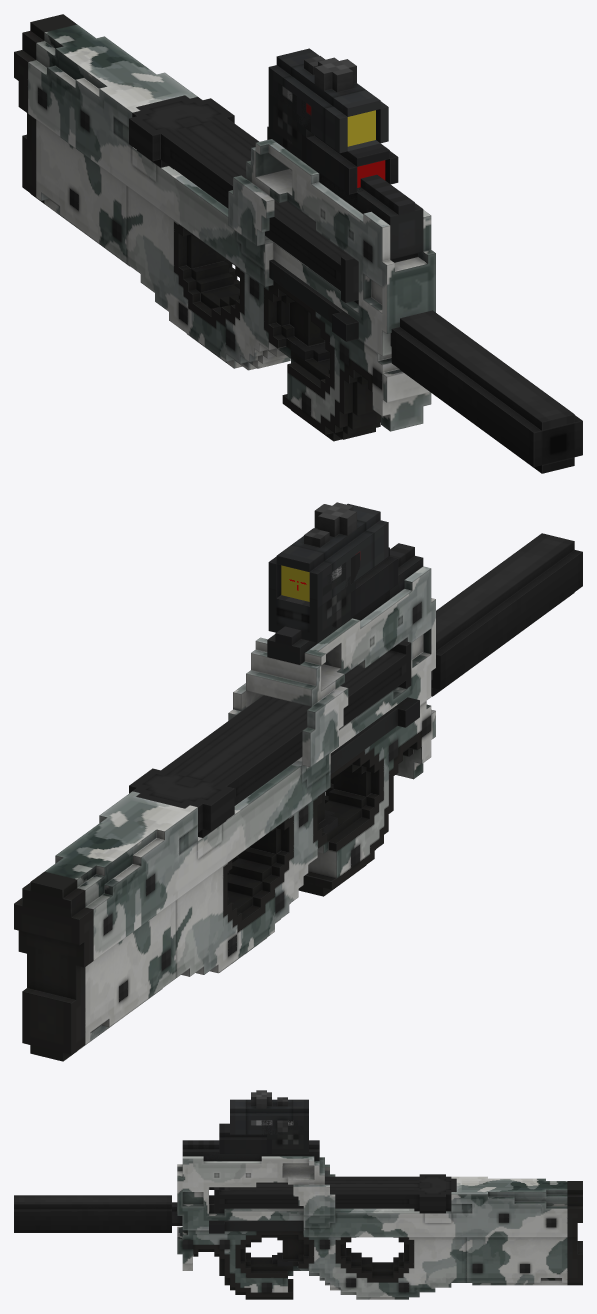
File: RD_P90_SNOW.glb
3 renders of one model, top to bottom at view 1: azimuth 30°, elevation 25°; view 2: azimuth 150°, elevation 25°; view 3: azimuth 270°, elevation 25°, orthographic. The views are drawn at different scales.
Visible parts, largest first — view 1: P90, SILENCER_6X6, P90_CLIP, SCOPE_TASCO, P90_PLANK, P90_SCOPE_DEFAULT, P90_BOLT, SCOPE_EOTECH; view 2: P90, P90_CLIP, SILENCER_6X6, SCOPE_TASCO, P90_PLANK (×2), SCOPE_EOTECH, P90_BOLT, P90_SCOPE_DEFAULT; view 3: P90, P90_CLIP, SILENCER_6X6, SCOPE_TASCO, P90_PLANK (×2), P90_SCOPE_DEFAULT, P90_BOLT, SCOPE_EOTECH.
Boxes of the visible parts, x1,y1,x2,y2 form: P90: [14, 14, 435, 441]; SILENCER_6X6: [391, 310, 582, 473]; P90_CLIP: [129, 95, 358, 302]; SCOPE_TASCO: [268, 48, 388, 153]; P90_PLANK: [267, 126, 423, 262]; P90_SCOPE_DEFAULT: [301, 134, 398, 203]; P90_BOLT: [269, 259, 358, 341]; SCOPE_EOTECH: [268, 83, 380, 159]; P90: [14, 566, 435, 1061]; P90_CLIP: [129, 640, 411, 837]; SILENCER_6X6: [431, 533, 582, 696]; SCOPE_TASCO: [268, 502, 388, 627]; P90_PLANK (×2): [267, 543, 423, 664]; SCOPE_EOTECH: [268, 562, 355, 642]; P90_BOLT: [330, 697, 419, 774]; P90_SCOPE_DEFAULT: [328, 547, 398, 635]; P90: [172, 1156, 582, 1299]; P90_CLIP: [214, 1174, 456, 1213]; SILENCER_6X6: [14, 1195, 171, 1232]; SCOPE_TASCO: [230, 1090, 308, 1153]; P90_PLANK (×2): [182, 1140, 319, 1161]; P90_SCOPE_DEFAULT: [198, 1123, 287, 1159]; P90_BOLT: [209, 1220, 303, 1233]; SCOPE_EOTECH: [267, 1120, 308, 1153].
Bounding box in the file's own units: 0.0984 × 0.4134 × 1.06.
9 materials, 9 textured.
